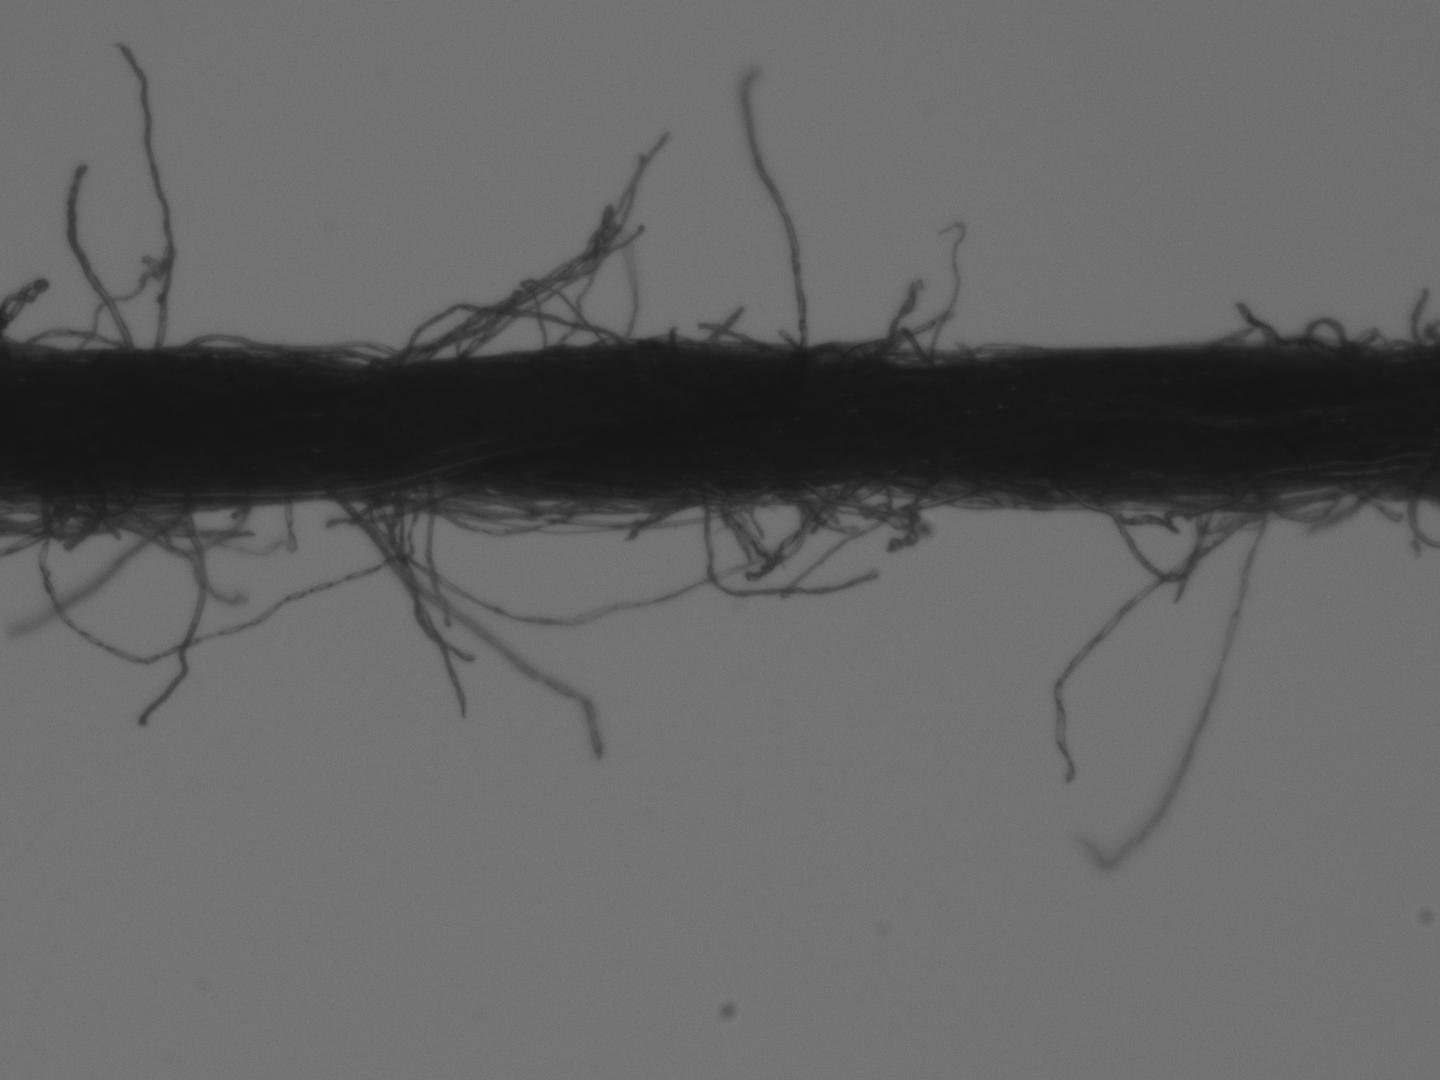loop_fiber: (40, 482, 409, 663), (391, 482, 749, 625), (401, 305, 613, 361), (398, 484, 570, 535), (101, 493, 248, 551), (1107, 498, 1204, 577), (164, 331, 397, 364), (814, 481, 975, 528), (709, 488, 802, 558), (1, 500, 122, 540), (789, 482, 887, 530), (1276, 480, 1342, 523), (856, 330, 923, 362), (23, 328, 107, 352)
protruding_fiber: (334, 490, 607, 757), (1081, 493, 1273, 869), (1052, 511, 1242, 783), (739, 67, 811, 349), (116, 35, 173, 356), (128, 501, 207, 731), (61, 162, 124, 351)
